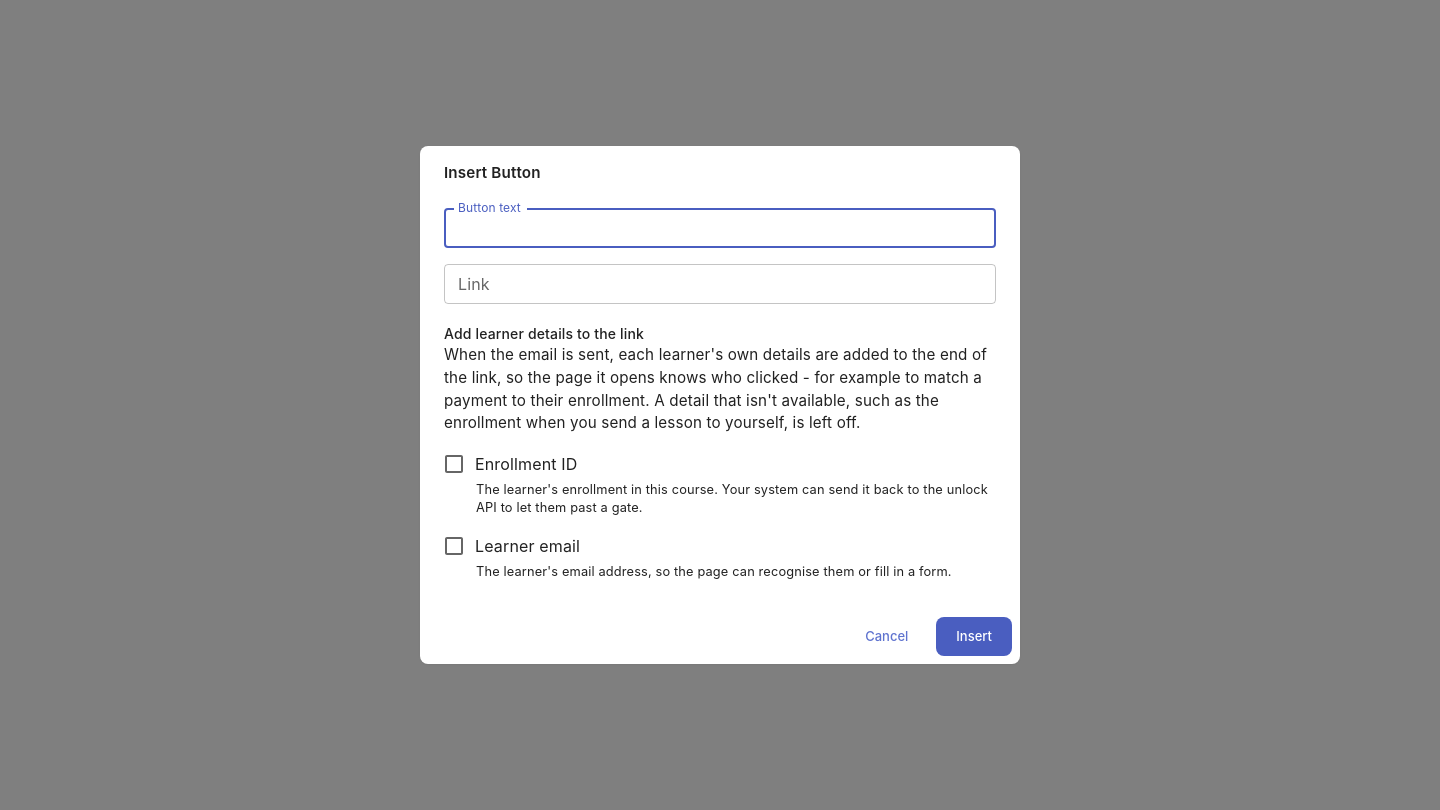
Test case: EmailButtonDialog › refuses a link that is not a web address
The image size is (1440, 810).
Type "Pay" into the field labelled "Button text" at (720, 228), box [444,208,996,248]
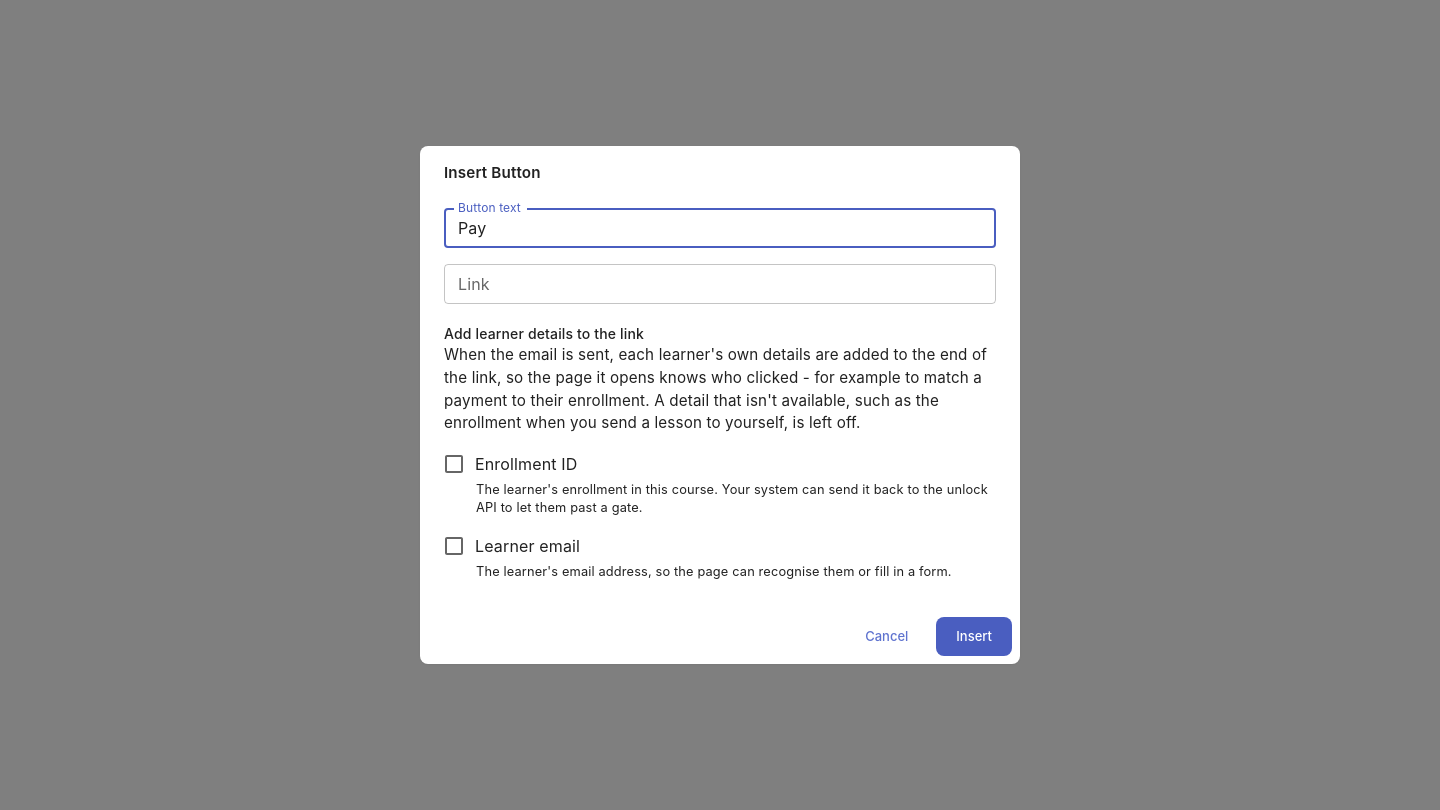
Type "javascript:alert(1)" into the field labelled "Link" at (720, 284), box [444,264,996,304]
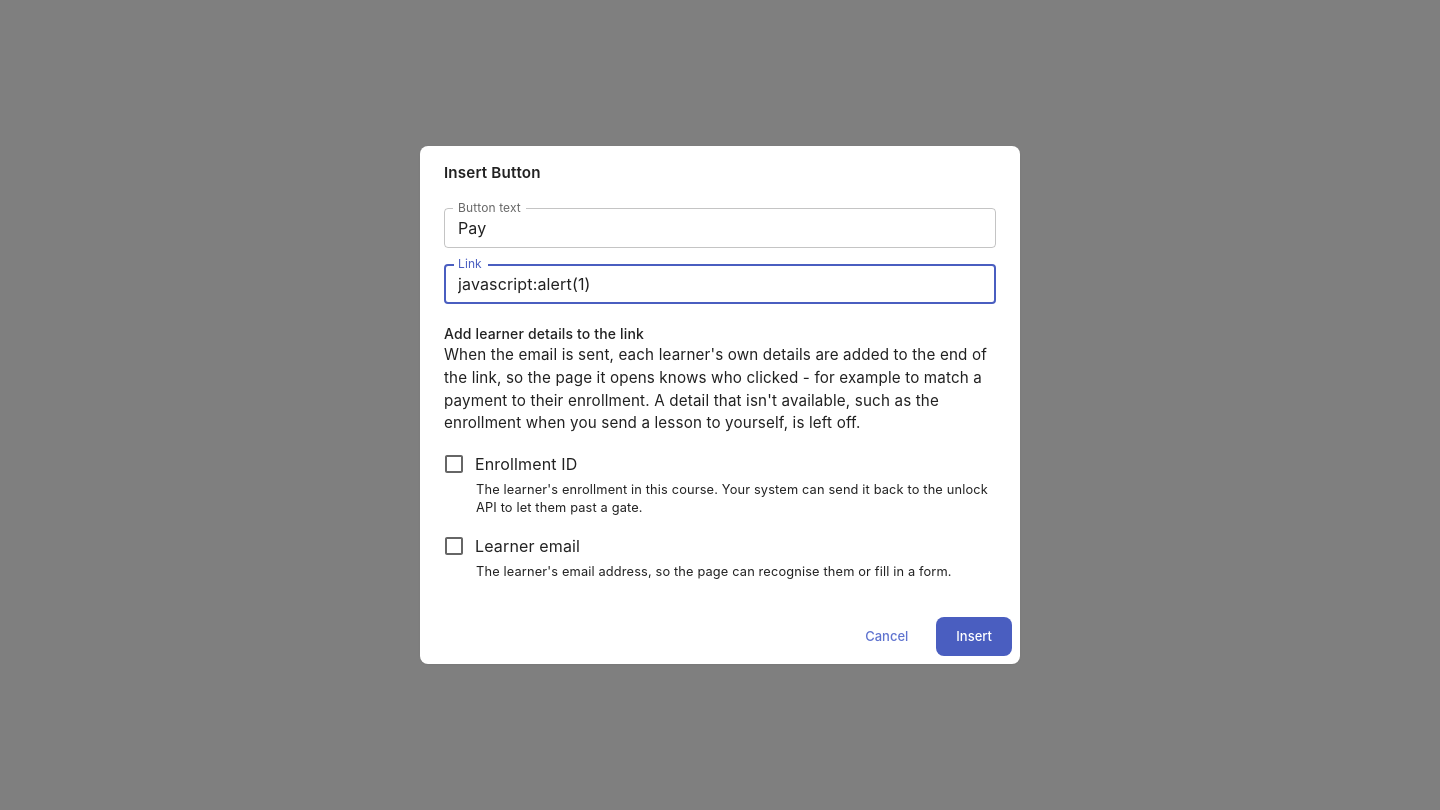
Click the button "Insert" at (974, 636), box [936,617,1012,656]
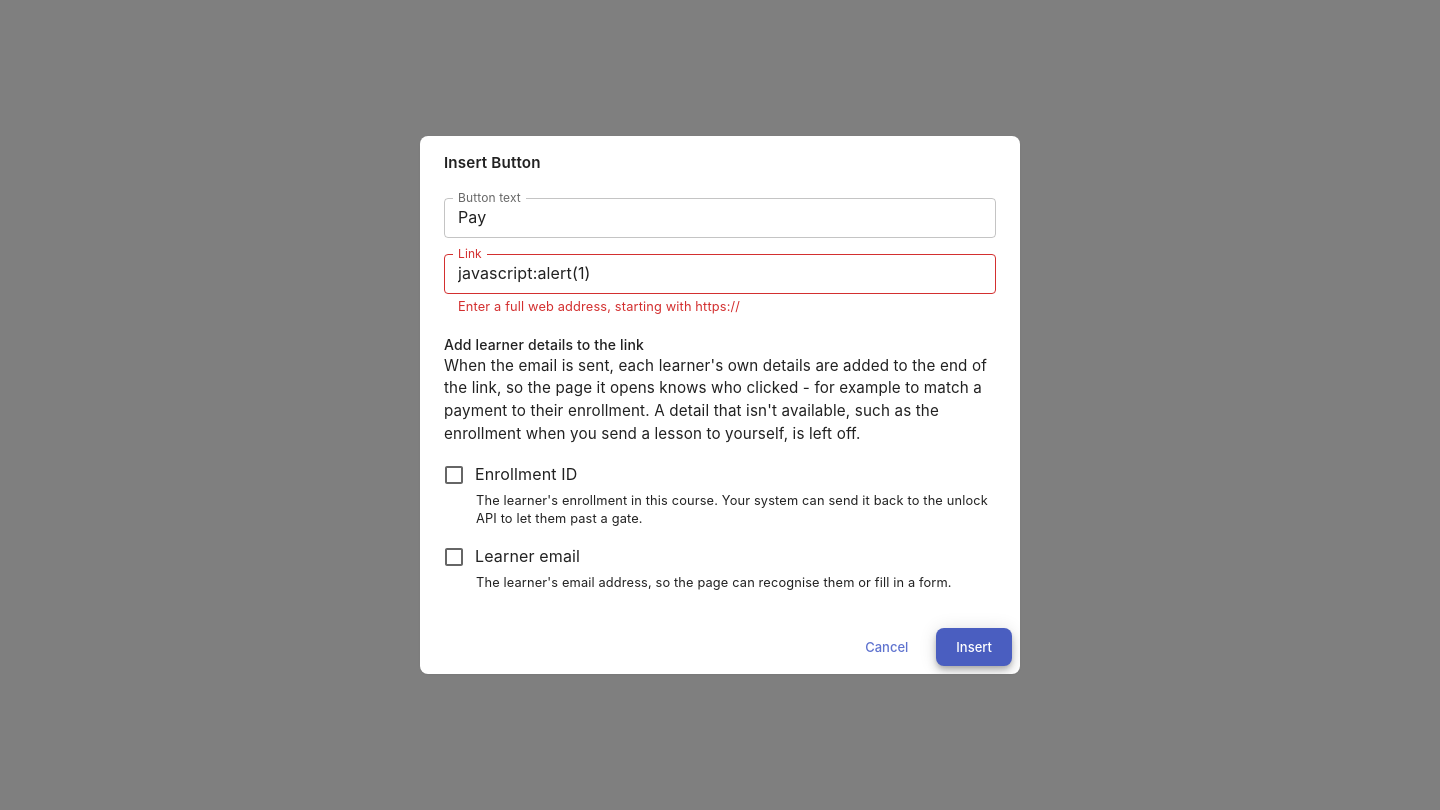
expect the text "Enter a full web address, starting with https://" is shown: met, box [458,299,740,314]
